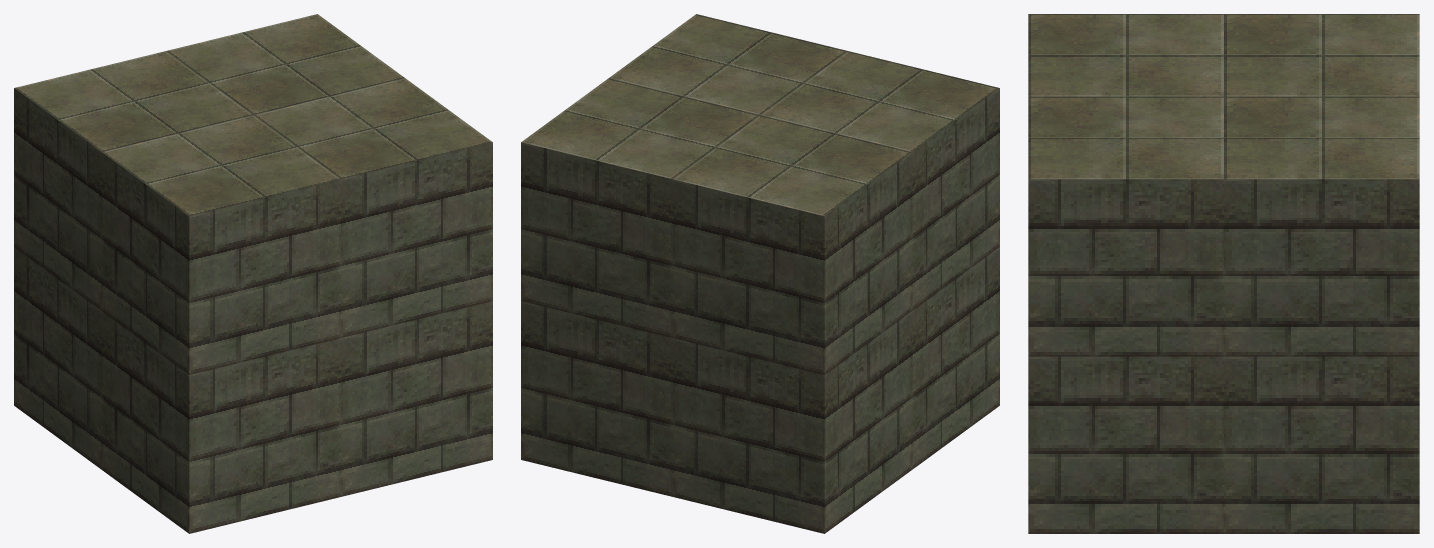
File: block.glb
3 renders of one model, left to right at view 1: azimuth 30°, elevation 25°; view 2: azimuth 150°, elevation 25°; view 3: azimuth 270°, elevation 25°, orthographic. The views are drawn at different scales.
Visible parts, largest first — view 1: block; view 2: block; view 3: block.
Boxes of the visible parts, <box> form: block: <box>14,14,492,533</box>; block: <box>521,14,999,533</box>; block: <box>1028,14,1419,533</box>.
Bounding box in the file's own units: 4 × 4 × 4.
Materials: 1 (1 with a texture image).
